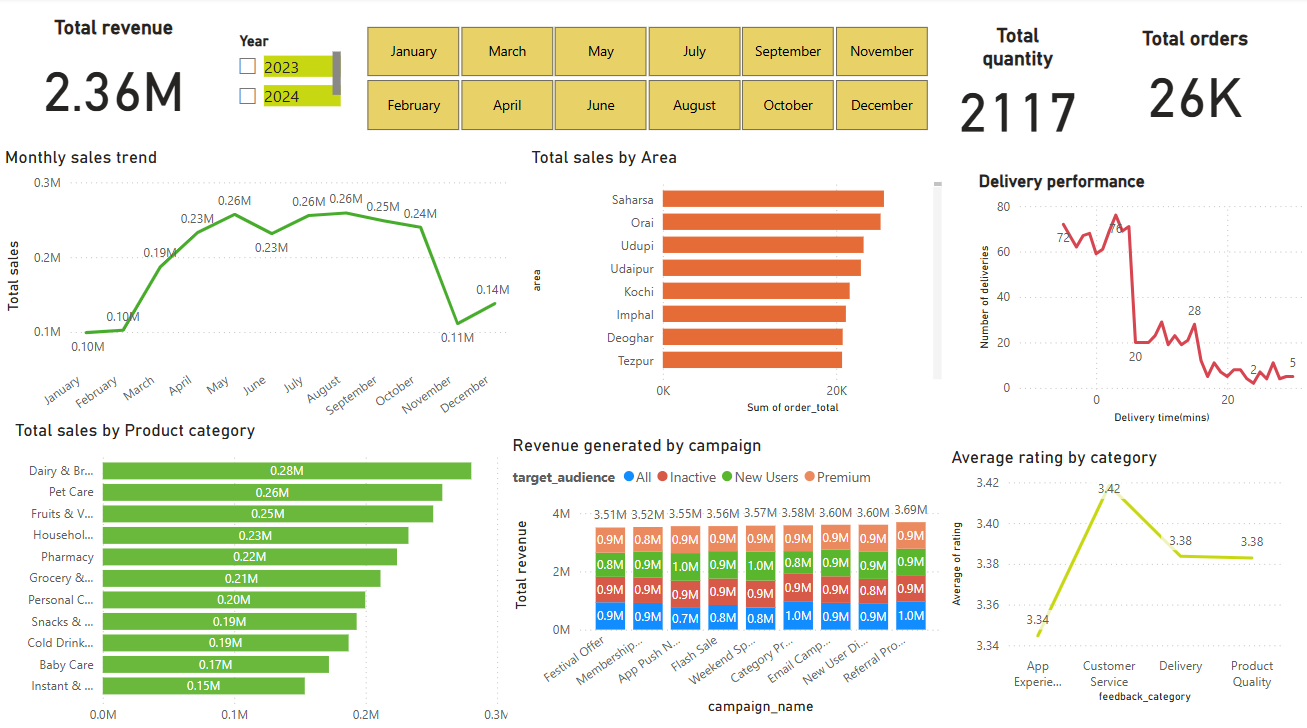

This screenshot's page, from the dashboard's own definition file:
{"tool":"powerbi","page":{"name":"Page 2","canvas":[1280,720],"ordinal":0},"visuals":[{"type":"card","title":"Total revenue","fields":{"Values":["Basic measures.Total revenue"]},"box":[9.8,18.3,203,111.3],"z":0},{"type":"slicer","fields":{"Values":["sales blinkit_orders.order_date.Variation.Date Hierarchy.Year"]},"box":[221.3,29.3,117.4,83.2],"z":1000},{"type":"slicer","fields":{"Values":["sales blinkit_orders.order_date.Variation.Date Hierarchy.Month"]},"box":[338.8,27.5,587.5,110],"z":2000},{"type":"lineChart","title":"Monthly sales trend","fields":{"Y":["Sum(sales blinkit_orders.order_total)"],"Category":["sales blinkit_orders.order_date.Variation.Date Hierarchy.Month"]},"box":[0,146.7,503.8,299.6],"z":3000},{"type":"clusteredBarChart","title":"Total sales by Product category","fields":{"Y":["Sum(sales blinkit_orders.order_total)"],"Category":["sales blinkit_products.category"]},"box":[9.8,413.3,505,306.9],"z":4000},{"type":"clusteredBarChart","title":"Total sales by Area","fields":{"Category":["sales blinkit_customers.area"],"Y":["Sum(sales blinkit_orders.order_total)"]},"box":[515,146.2,411.2,266.2],"z":5000},{"type":"columnChart","title":"Revenue generated by campaign","fields":{"Category":["sales blinkit_marketing_performance.campaign_name"],"Y":["Sum(sales blinkit_marketing_performance.revenue_generated)"],"Series":["sales blinkit_marketing_performance.target_audience"]},"box":[496.2,427.5,430,278.8],"z":6000},{"type":"lineStackedColumnComboChart","title":"Average rating by category","fields":{"Category":["sales blinkit_customer_feedback.feedback_category"],"Series":["sales blinkit_orders.order_date"],"Y2":["Avg(sales blinkit_customer_feedback.rating)"]},"box":[926.2,440,336.2,255],"z":7000},{"type":"card","title":"Total quantity","fields":{"Values":["Sum(sales blinkit_order_items.quantity)"]},"box":[926.2,27.5,140,110],"z":8000},{"type":"card","title":"Total orders","fields":{"Values":["Sum(sales blinkit_customers.total_orders)"]},"box":[1076.2,28.8,186.2,100],"z":9000},{"type":"lineChart","title":"Delivery performance","fields":{"Category":["sales blinkit_delivery_performance.delivery_time_minutes"],"Y":["CountNonNull(sales blinkit_delivery_performance.delivery_time_minutes)"]},"box":[952.5,170,327.5,252.5],"z":10000}]}

Visuals, with their boxes in screenshot pixels (x1, y1, x2, y2), scaled from the page's 1280x720 canvas onto the 1307x728 screenshot:
"Total revenue" card: x1=10, y1=19, x2=217, y2=131
slicer - sales blinkit_orders.order_date.Variation.Date Hierarchy.Year: x1=226, y1=30, x2=346, y2=114
slicer - sales blinkit_orders.order_date.Variation.Date Hierarchy.Month: x1=346, y1=28, x2=946, y2=139
"Monthly sales trend" lineChart: x1=0, y1=148, x2=514, y2=451
"Total sales by Product category" clusteredBarChart: x1=10, y1=418, x2=526, y2=727
"Total sales by Area" clusteredBarChart: x1=526, y1=148, x2=946, y2=417
"Revenue generated by campaign" columnChart: x1=507, y1=432, x2=946, y2=714
"Average rating by category" lineStackedColumnComboChart: x1=946, y1=445, x2=1289, y2=703
"Total quantity" card: x1=946, y1=28, x2=1089, y2=139
"Total orders" card: x1=1099, y1=29, x2=1289, y2=130
"Delivery performance" lineChart: x1=973, y1=172, x2=1306, y2=427
